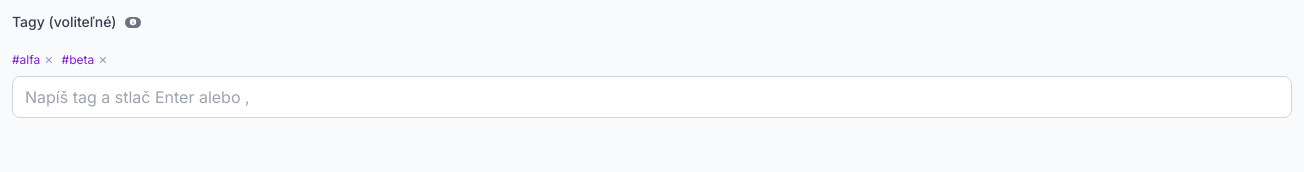
Test: TagsSection – synchronizácia s hodnotou od rodiča › po oneskorenom príchode tagov pridanie nového ponechá pôvodné
Type "gama" into the field named "Vstup pre tagy" at (652, 97), box x1=12 y1=76 x2=1292 y2=118
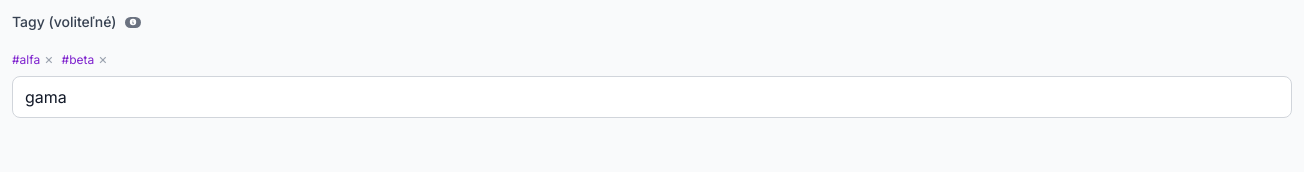
Press Enter in the field named "Vstup pre tagy", box x1=12 y1=76 x2=1292 y2=118
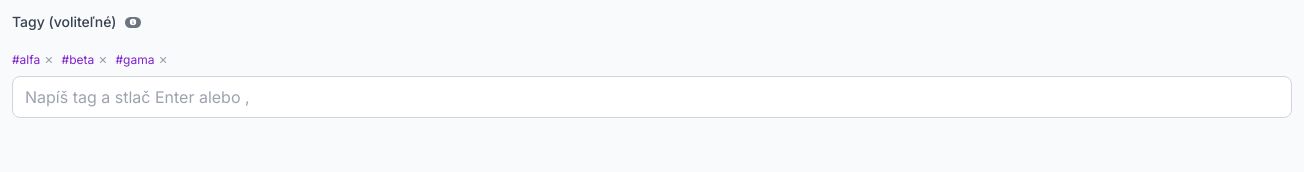
Expected: the text "#alfa ×" is shown, x1=12 y1=40 x2=54 y2=76
Expected: the text "#gama ×" is shown, x1=116 y1=40 x2=168 y2=76
